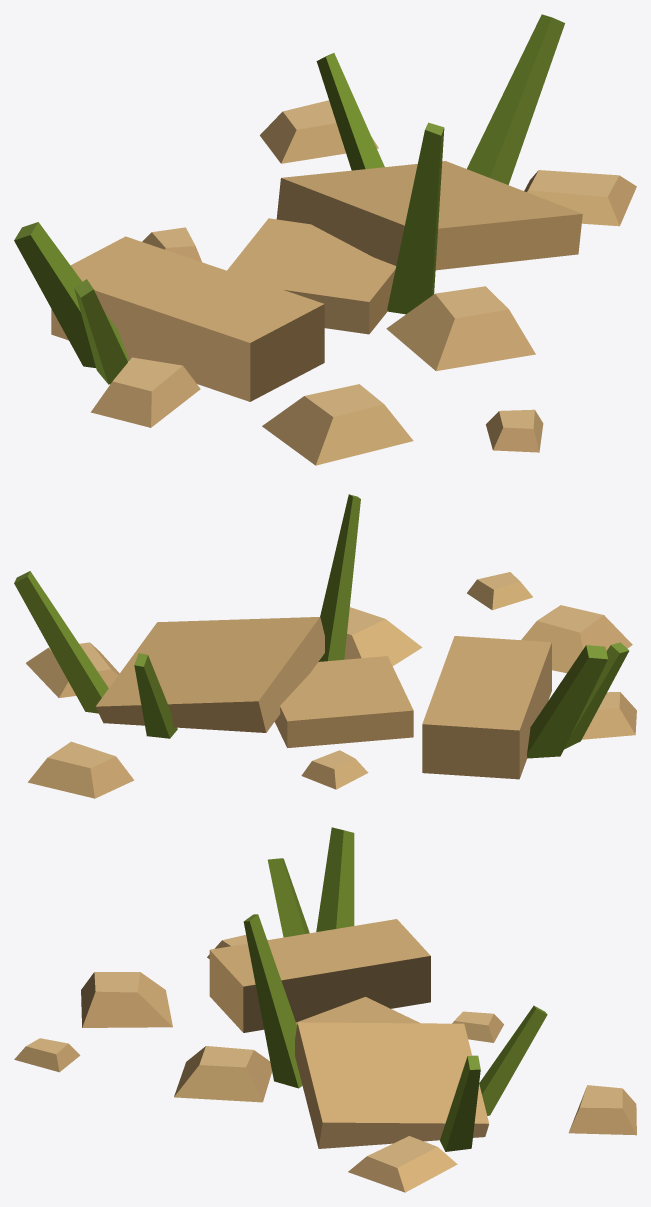
The model's file is ST_Prop_Rubble_02.fbx.
3 views of the same model, one above another, from view 1: azimuth 30°, elevation 25°; view 2: azimuth 150°, elevation 25°; view 3: azimuth 270°, elevation 25° (orthographic). The views are drawn at different scales.
Visible parts, largest first — view 1: ST_Prop_Rubble_02; view 2: ST_Prop_Rubble_02; view 3: ST_Prop_Rubble_02.
Boxes of the visible parts, <box> form: ST_Prop_Rubble_02: <box>14,14,636,465</box>; ST_Prop_Rubble_02: <box>14,494,636,798</box>; ST_Prop_Rubble_02: <box>14,827,636,1192</box>.
Bounding box in the file's own units: 3.55 × 1.05 × 3.67.
